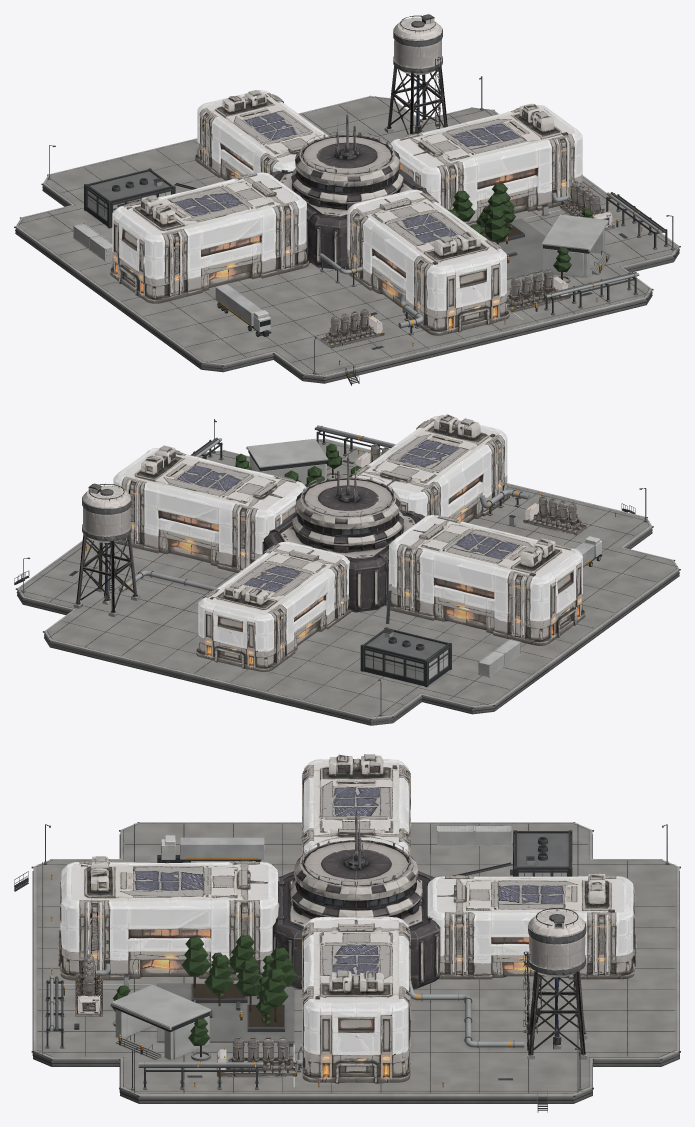
File: infrastructure.glb
3 views of the same model, one above another, from view 1: azimuth 30°, elevation 25°; view 2: azimuth 150°, elevation 25°; view 3: azimuth 270°, elevation 25° (orthographic). The views are drawn at different scales.
Parts seen in each view (by area): view 1: parts_colony-adminWing, hull, parts_colony-hubDrum, parts_colony-waterTower, parts_colony-vesselSkid, parts_yard-truck, parts_container; view 2: parts_colony-adminWing, hull, parts_colony-hubDrum, parts_colony-waterTower, parts_colony-vesselSkid, parts_container, parts_yard-truck; view 3: hull, parts_colony-adminWing, parts_colony-hubDrum, parts_colony-waterTower, parts_colony-vesselSkid, parts_yard-truck, parts_container.
Part boxes in pixels (x1,y1,x2,y2): parts_colony-adminWing: (110, 90, 582, 335); hull: (14, 76, 680, 385); parts_colony-hubDrum: (270, 108, 431, 269); parts_colony-waterTower: (384, 14, 447, 134); parts_colony-vesselSkid: (320, 180, 614, 348); parts_yard-truck: (215, 284, 271, 336); parts_container: (73, 223, 112, 261); parts_colony-adminWing: (113, 414, 585, 671); hull: (14, 419, 680, 725); parts_colony-hubDrum: (262, 452, 424, 612); parts_colony-waterTower: (73, 483, 140, 617); parts_colony-vesselSkid: (355, 444, 586, 535); parts_container: (478, 639, 521, 677); parts_yard-truck: (575, 536, 602, 567); hull: (14, 822, 680, 1112); parts_colony-adminWing: (58, 754, 636, 1083); parts_colony-hubDrum: (272, 809, 440, 989); parts_colony-waterTower: (523, 908, 587, 1059); parts_colony-vesselSkid: (75, 859, 297, 1077); parts_yard-truck: (157, 835, 264, 863); parts_container: (437, 825, 511, 845).
Size of the model in its own units: 107 by 28.36 by 107.
10 materials, 10 textured.
